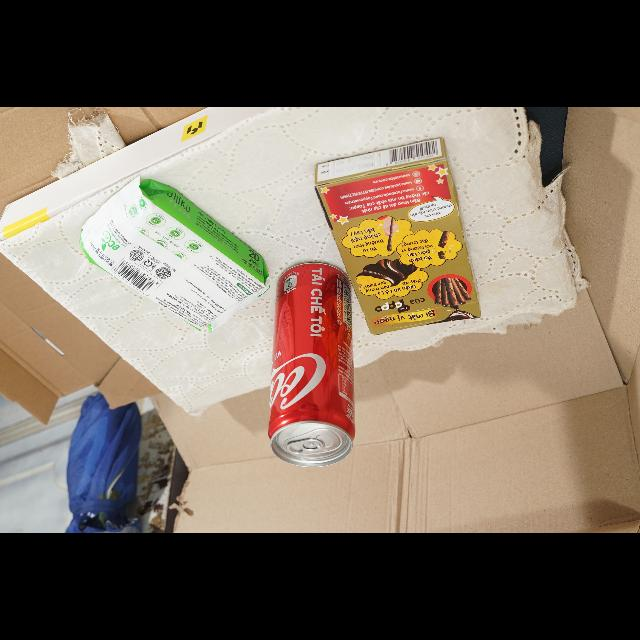banh_toppo_socola: (315, 138, 480, 334)
coca_cola: (268, 262, 355, 466)
khan_giay: (80, 179, 269, 331)
